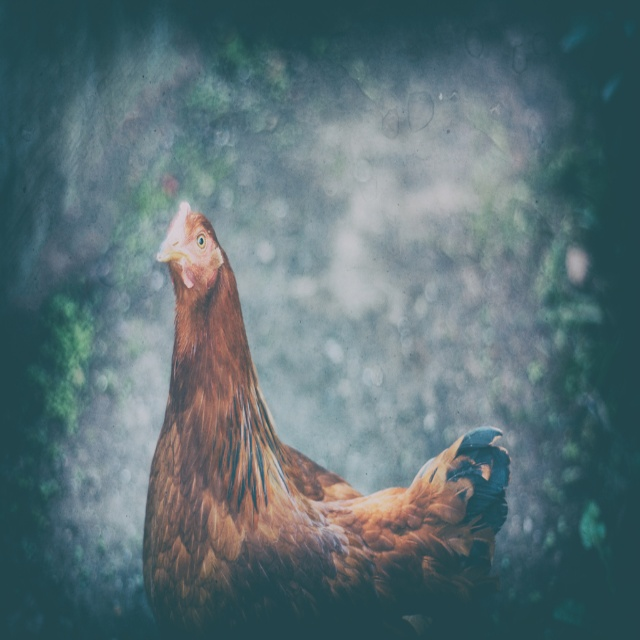Chicken: (150, 210, 508, 638)
